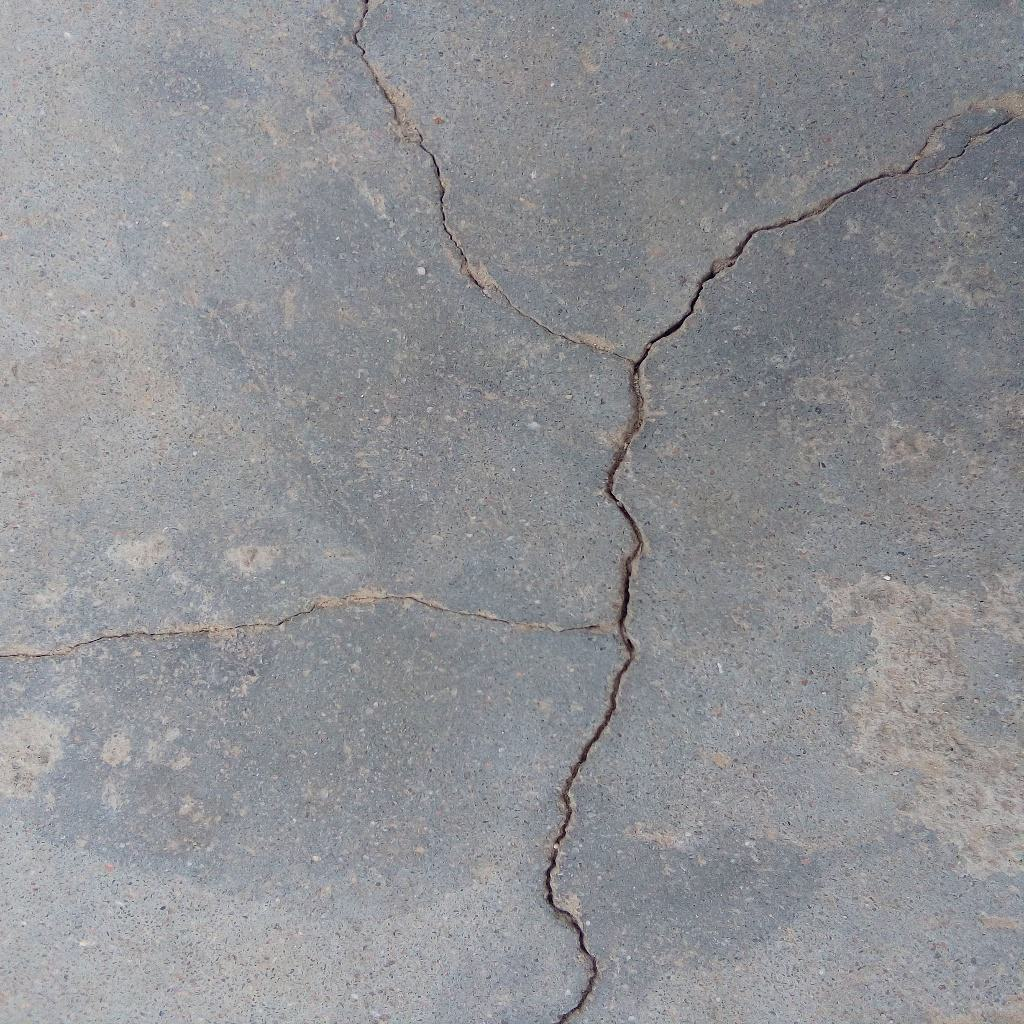Crack: (354, 1, 636, 363), (636, 114, 1018, 363), (545, 363, 645, 1024), (1, 595, 599, 658)
